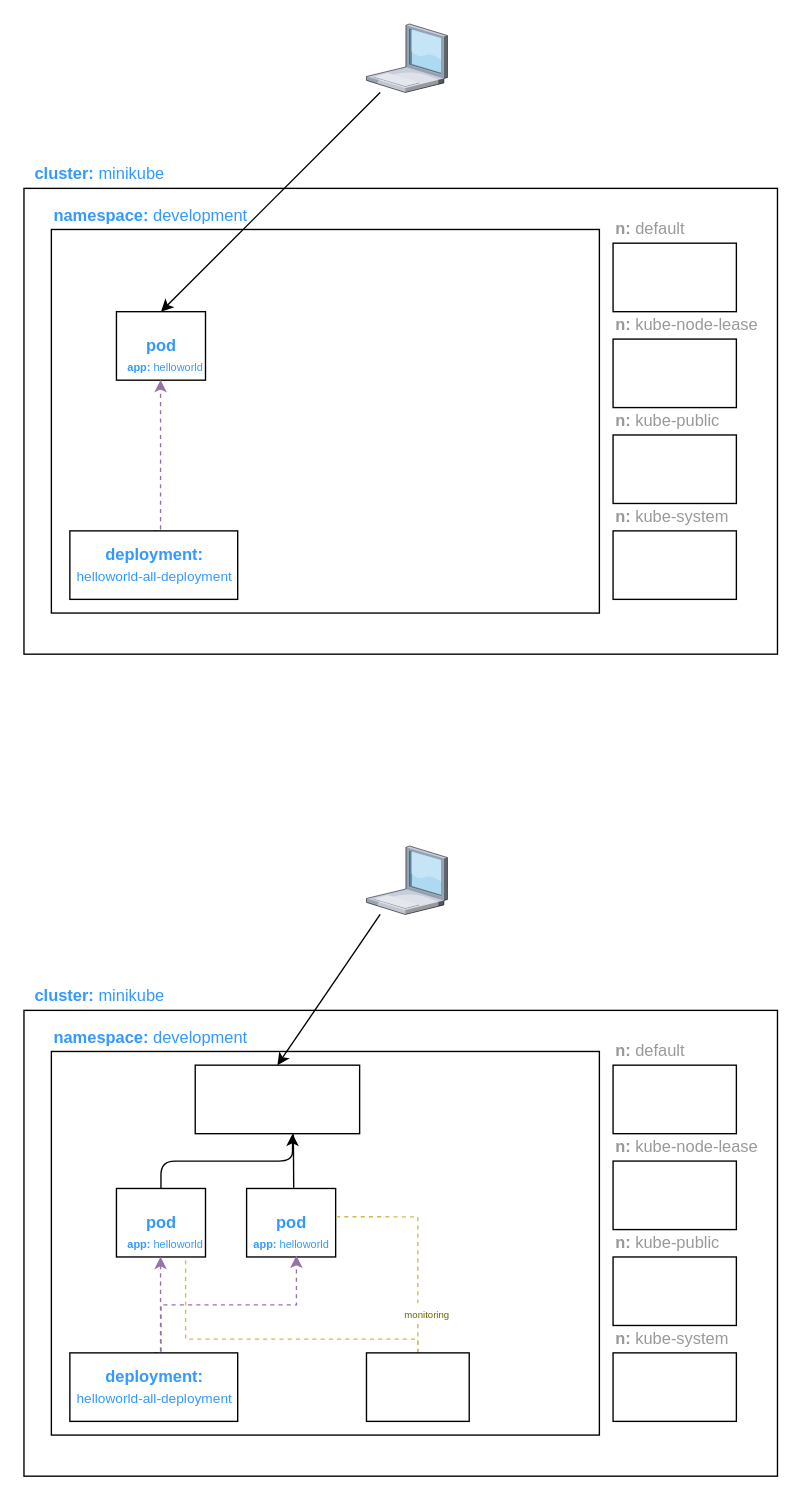
Some shapes in this 801 by 1500 pixel diagram are drawn without their labels. The centre of each missing label's shape, as x and y in pixels:
"hpa: helloworld-hpa" goes at (x=417, y=1386).
"service: helloworld-all-service" goes at (x=277, y=1099).
